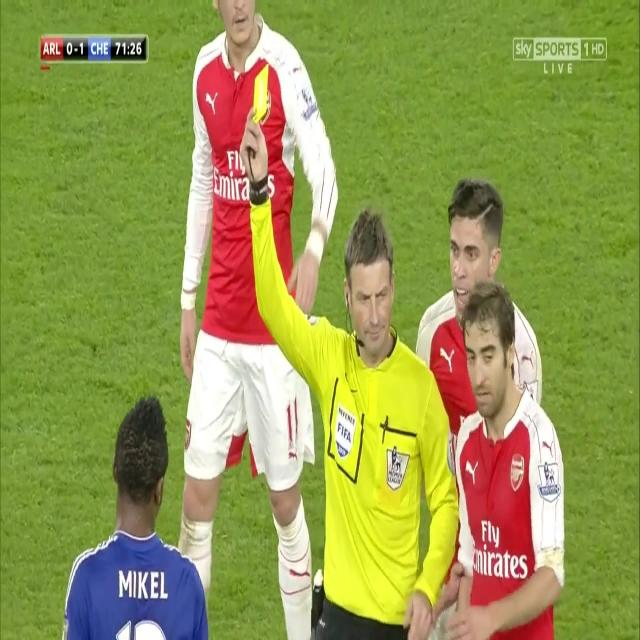Player: (179, 1, 341, 638), (445, 283, 568, 640), (59, 390, 211, 640), (412, 178, 546, 406)
Referee: (237, 105, 459, 640)
